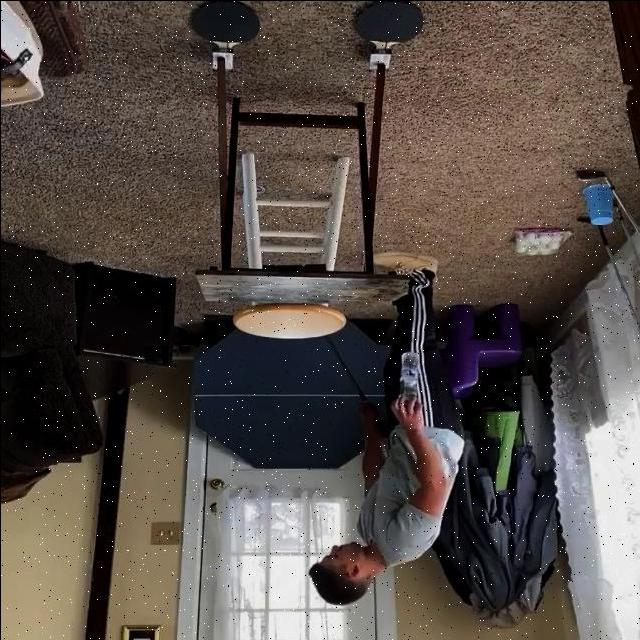golf club-handle: (324, 335, 390, 446)
